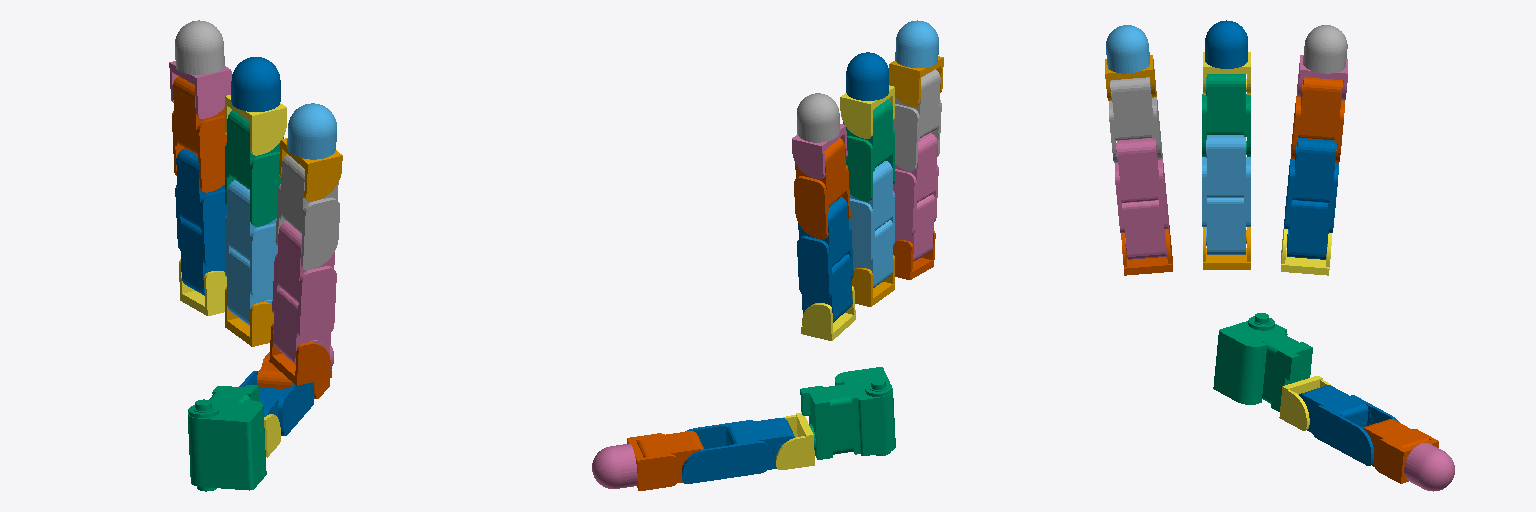
robot.urdf — xarm6:
<?xml version="1.0" encoding="utf-8"?>
<robot name="xarm6">
  <link name="base_link">
    <inertial>
      <mass value="0.4154"/>
      <origin rpy="0 0 0" xyz="0 0 0"/>
      <inertia ixx="1e-4" ixy="0" ixz="0" iyy="1e-4" iyz="0" izz="1e-4"/>
    </inertial>
    <visual>
      <geometry>
        <mesh filename="meshes/visual/base_link.obj"/>
      </geometry>
      <origin rpy="0 0 0" xyz="0 0 0 "/>
    </visual>
    <collision>
      <origin rpy="0 0 0" xyz="-0.009 0.0 -0.04"/>
      <geometry>
        <box size="0.0414 0.112 0.0843"/>
      </geometry>
    </collision>
    <collision>
      <origin rpy="0 0 0" xyz="-0.009300 -0.00557 -0.08874"/>
      <geometry>
        <box size="0.0414 0.0720 0.013"/>
      </geometry>
    </collision>
  </link>

  <link name="palm">
  </link>
  <joint name="palm_joint" type="fixed">
    <parent link="base_link"/>
    <child link="palm"/>
    <origin rpy="0.00000 -0.00000 0.00000" xyz="0 0 -0.065"/>
  </joint>

  <!--  virtual link-->
  <link name="wrist">
    <inertial>
      <mass value="0.01"/>
      <origin rpy="0 0 0" xyz="0 0 0"/>
      <inertia ixx="1e-6" ixy="0" ixz="0" iyy="1e-6" iyz="0" izz="1e-6"/>
    </inertial>
  </link>
  <joint name="wrist_joint" type="fixed">
    <origin rpy="0 0 0" xyz="0 0 -0.03"/>
    <parent link="palm"/>
    <child link="wrist"/>
  </joint>

  <link name="link_0.0">
    <visual>
      <geometry>
        <mesh filename="meshes/visual/link_0.0.obj"/>
      </geometry>
    </visual>
    <collision>
      <geometry>
        <box size="0.0196 0.0275 0.0164"/>
      </geometry>
      <origin rpy="0 0 0" xyz="0 0 0.0082"/>
    </collision>
    <inertial>
      <mass value="0.005"/>
      <origin xyz="0 0 0"/>
      <inertia ixx="5.1458e-05" iyy="5.1458e-05" izz="6.125e-05" ixy="0" ixz="0" iyz="0"/>
    </inertial>
  </link>
  <joint name="joint_0.0" type="revolute">
    <axis xyz="0 0 1"/>
    <limit effort="10" lower="-0.47" upper="0.47" velocity="0"/>
    <parent link="base_link"/>
    <child link="link_0.0"/>
    <origin rpy="-0.08726646255 0 0" xyz="0 0.0435 -0.001542"/>
  </joint>
  <link name="link_1.0">
    <inertial>
      <mass value="0.125164"/>
      <origin xyz="0.027 0 0"/>
      <inertia ixx="6.39979e-06" iyy="8.88687e-05" izz="9.13751e-05" ixy="-3.26531e-06" ixz="1.23963e-05"
               iyz="2.07384e-05"/>
    </inertial>
    <visual>
      <geometry>
        <mesh filename="meshes/visual/link_1.0.obj"/>
      </geometry>
    </visual>
    <collision>
      <geometry>
        <box size="0.0196 0.0275 0.054"/>
      </geometry>
      <origin rpy="0 0 0" xyz="0 0 0.027"/>
    </collision>
  </link>
  <joint name="joint_1.0" type="revolute">
    <limit effort="10" lower="-0.196" upper="1.61" velocity="0"/>
    <axis xyz="0 1 0"/>
    <parent link="link_0.0"/>
    <child link="link_1.0"/>
    <origin xyz="0 0 0.0164"/>
  </joint>
  <link name="link_2.0">
    <inertial>
      <mass value="0.131691"/>
      <origin xyz="0.039 0 0"/>
      <inertia ixx="7.04217e-05" iyy="3.95744e-05" izz="6.61125e-05" ixy="-9.64342e-05" ixz="5.8796e-05"
               iyz="-3.62996e-05"/>
    </inertial>
    <visual>
      <geometry>
        <mesh filename="meshes/visual/link_2.0.obj"/>
      </geometry>
    </visual>
    <collision>
      <geometry>
        <box size="0.0196 0.0275 0.0384"/>
      </geometry>
      <origin rpy="0 0 0" xyz="0 0 0.0192"/>
    </collision>
  </link>
  <joint name="joint_2.0" type="revolute">
    <axis xyz="0 1 0"/>
    <limit effort="10" lower="-0.174" upper="1.709" velocity="0"/>
    <parent link="link_1.0"/>
    <child link="link_2.0"/>
    <origin xyz="0 0 0.054"/>
  </joint>
  <link name="link_3.0">
    <inertial>
      <mass value="0.0388"/>
      <origin xyz="0 0 0" rpy="0 0 0"/>
      <inertia ixx="3.29223173333e-05" ixy="8.042076e-06" ixz="5.2283e-06"
               iyy="1.47493026667e-5" iyz="1.1283525e-5" izz="3.29223173333e-05"/>
    </inertial>
    <visual>
      <geometry>
        <mesh filename="meshes/visual/link_3.0.obj"/>
      </geometry>
    </visual>
    <collision>
      <geometry>
        <box size="0.0196 0.0269 0.022"/>
      </geometry>
      <origin rpy="0 0 0" xyz="0 0 0.0047"/>
    </collision>
    <inertial>
      <origin rpy="0 0 0" xyz="0 0 0.01335"/>
      <mass value="0.02"/>
      <inertia ixx="1e-5" ixy="0.0" ixz="0.0" iyy="2e-5" iyz="0.0" izz="2e-5"/>
    </inertial>
  </link>
  <joint name="joint_3.0" type="revolute">
    <axis xyz="0 1 0"/>
    <limit effort="10" lower="-0.227" upper="1.618" velocity="0"/>
    <parent link="link_2.0"/>
    <child link="link_3.0"/>
    <origin xyz="0 0 0.0384"/>
  </joint>
  <link name="link_3.0_tip">
    <visual>
      <geometry>
        <mesh filename="meshes/visual/link_3.0_tip.obj"/>
      </geometry>
    </visual>
    <collision>
      <geometry>
        <sphere radius="0.012"/>
      </geometry>
      <origin rpy="0 0 0" xyz="0 0 0.0005"/>
    </collision>
    <collision>
      <geometry>
        <cylinder radius="0.012" length="0.012"/>
      </geometry>
      <origin rpy="0 0 0" xyz="0 0 -0.006"/>
    </collision>
  </link>
  <joint name="joint_3.0_tip" type="fixed">
    <parent link="link_3.0"/>
    <child link="link_3.0_tip"/>
    <origin rpy="0 0 0" xyz="0 0 0.0267"/>
  </joint>
  <link name="link_4.0">
    <inertial>
      <mass value="0.005"/>
      <origin xyz="0 0 0"/>
      <inertia ixx="5.1458e-05" iyy="5.1458e-05" izz="6.125e-05" ixy="0" ixz="0" iyz="0"/>
    </inertial>
    <visual>
      <geometry>
        <mesh filename="meshes/visual/link_0.0.obj"/>
      </geometry>
    </visual>
    <collision>
      <geometry>
        <box size="0.0196 0.0275 0.0164"/>
      </geometry>
      <origin rpy="0 0 0" xyz="0 0 0.0082"/>
    </collision>
  </link>
  <joint name="joint_4.0" type="revolute">
    <axis xyz="0 0 1"/>
    <limit effort="10" lower="-0.47" upper="0.47" velocity="0"/>
    <parent link="base_link"/>
    <child link="link_4.0"/>
    <origin rpy="0.0 0 0" xyz="0 0 0.0007"/>
  </joint>
  <link name="link_5.0">
    <inertial>
      <mass value="0.125164"/>
      <origin xyz="0.027 0 0"/>
      <inertia ixx="6.39979e-06" iyy="8.88687e-05" izz="9.13751e-05" ixy="-3.26531e-06" ixz="1.23963e-05"
               iyz="2.07384e-05"/>
    </inertial>
    <visual>
      <geometry>
        <mesh filename="meshes/visual/link_1.0.obj"/>
      </geometry>
    </visual>
    <collision>
      <geometry>
        <box size="0.0196 0.0275 0.054"/>
      </geometry>
      <origin rpy="0 0 0" xyz="0 0 0.027"/>
    </collision>
  </link>
  <joint name="joint_5.0" type="revolute">
    <limit effort="10" lower="-0.196" upper="1.61" velocity="0"/>
    <axis xyz="0 1 0"/>
    <parent link="link_4.0"/>
    <child link="link_5.0"/>
    <origin xyz="0 0 0.0164"/>
  </joint>
  <link name="link_6.0">
    <inertial>
      <mass value="0.131691"/>
      <origin xyz="0.039 0 0"/>
      <inertia ixx="7.04217e-05" iyy="3.95744e-05" izz="6.61125e-05" ixy="-9.64342e-05" ixz="5.8796e-05"
               iyz="-3.62996e-05"/>
    </inertial>
    <visual>
      <geometry>
        <mesh filename="meshes/visual/link_2.0.obj"/>
      </geometry>
    </visual>
    <collision>
      <geometry>
        <box size="0.0196 0.0275 0.0384"/>
      </geometry>
      <origin rpy="0 0 0" xyz="0 0 0.0192"/>
    </collision>
  </link>
  <joint name="joint_6.0" type="revolute">
    <axis xyz="0 1 0"/>
    <limit effort="10" lower="-0.174" upper="1.709" velocity="0"/>
    <parent link="link_5.0"/>
    <child link="link_6.0"/>
    <origin xyz="0 0 0.054"/>
  </joint>
  <link name="link_7.0">
    <inertial>
      <mass value="0.0388"/>
      <origin xyz="0 0 0" rpy="0 0 0"/>
      <inertia ixx="3.29223173333e-05" ixy="8.042076e-06" ixz="5.2283e-06"
               iyy="1.47493026667e-5" iyz="1.1283525e-5" izz="3.29223173333e-05"/>
    </inertial>
    <visual>
      <geometry>
        <mesh filename="meshes/visual/link_3.0.obj"/>
      </geometry>
    </visual>
    <collision>
      <geometry>
        <box size="0.0196 0.0269 0.022"/>
      </geometry>
      <origin rpy="0 0 0" xyz="0 0 0.0047"/>
    </collision>
  </link>
  <joint name="joint_7.0" type="revolute">
    <axis xyz="0 1 0"/>
    <limit effort="10" lower="-0.227" upper="1.618" velocity="0"/>
    <parent link="link_6.0"/>
    <child link="link_7.0"/>
    <origin xyz="0 0 0.0384"/>
  </joint>
  <link name="link_7.0_tip">
    <visual>
      <geometry>
        <mesh filename="meshes/visual/link_3.0_tip.obj"/>
      </geometry>
    </visual>
    <collision>
      <geometry>
        <sphere radius="0.012"/>
      </geometry>
      <origin rpy="0 0 0" xyz="0 0 0.0005"/>
    </collision>
    <collision>
      <geometry>
        <cylinder radius="0.012" length="0.012"/>
      </geometry>
      <origin rpy="0 0 0" xyz="0 0 -0.006"/>
    </collision>
  </link>
  <joint name="joint_7.0_tip" type="fixed">
    <parent link="link_7.0"/>
    <child link="link_7.0_tip"/>
    <origin rpy="0 0 0" xyz="0 0 0.0267"/>
  </joint>
  <link name="link_8.0">
    <inertial>
      <mass value="0.005"/>
      <origin xyz="0 0 0"/>
      <inertia ixx="5.1458e-05" iyy="5.1458e-05" izz="6.125e-05" ixy="0" ixz="0" iyz="0"/>
    </inertial>
    <visual>
      <geometry>
        <mesh filename="meshes/visual/link_0.0.obj"/>
      </geometry>
    </visual>
    <collision>
      <geometry>
        <box size="0.0196 0.0275 0.0164"/>
      </geometry>
      <origin rpy="0 0 0" xyz="0 0 0.0082"/>
    </collision>
  </link>
  <joint name="joint_8.0" type="revolute">
    <axis xyz="0 0 1"/>
    <limit effort="10" lower="-0.47" upper="0.47" velocity="0"/>
    <parent link="base_link"/>
    <child link="link_8.0"/>
    <origin rpy="0.08726646255 0 0" xyz="0 -0.0435 -0.001542"/>
  </joint>
  <link name="link_9.0">
    <inertial>
      <mass value="0.125164"/>
      <origin xyz="0.027 0 0"/>
      <inertia ixx="6.39979e-06" iyy="8.88687e-05" izz="9.13751e-05" ixy="-3.26531e-06" ixz="1.23963e-05"
               iyz="2.07384e-05"/>
    </inertial>
    <visual>
      <geometry>
        <mesh filename="meshes/visual/link_1.0.obj"/>
      </geometry>
    </visual>
    <collision>
      <geometry>
        <box size="0.0196 0.0275 0.054"/>
      </geometry>
      <origin rpy="0 0 0" xyz="0 0 0.027"/>
    </collision>
  </link>
  <joint name="joint_9.0" type="revolute">
    <limit effort="10" lower="-0.196" upper="1.61" velocity="0"/>
    <axis xyz="0 1 0"/>
    <parent link="link_8.0"/>
    <child link="link_9.0"/>
    <origin xyz="0 0 0.0164"/>
  </joint>
  <link name="link_10.0">
    <inertial>
      <mass value="0.131691"/>
      <origin xyz="0.039 0 0"/>
      <inertia ixx="7.04217e-05" iyy="3.95744e-05" izz="6.61125e-05" ixy="-9.64342e-05" ixz="5.8796e-05"
               iyz="-3.62996e-05"/>
    </inertial>
    <visual>
      <geometry>
        <mesh filename="meshes/visual/link_2.0.obj"/>
      </geometry>
    </visual>
    <collision>
      <geometry>
        <box size="0.0196 0.0275 0.0384"/>
      </geometry>
      <origin rpy="0 0 0" xyz="0 0 0.0192"/>
    </collision>
  </link>
  <joint name="joint_10.0" type="revolute">
    <axis xyz="0 1 0"/>
    <limit effort="10" lower="-0.174" upper="1.709" velocity="0"/>
    <parent link="link_9.0"/>
    <child link="link_10.0"/>
    <origin xyz="0 0 0.054"/>
  </joint>
  <link name="link_11.0">
    <inertial>
      <mass value="0.0388"/>
      <origin xyz="0 0 0" rpy="0 0 0"/>
      <inertia ixx="3.29223173333e-05" ixy="8.042076e-06" ixz="5.2283e-06"
               iyy="1.47493026667e-5" iyz="1.1283525e-5" izz="3.29223173333e-05"/>
    </inertial>
    <visual>
      <geometry>
        <mesh filename="meshes/visual/link_3.0.obj"/>
      </geometry>
    </visual>
    <collision>
      <geometry>
        <box size="0.0196 0.0269 0.022"/>
      </geometry>
      <origin rpy="0 0 0" xyz="0 0 0.0047"/>
    </collision>
  </link>
  <joint name="joint_11.0" type="revolute">
    <axis xyz="0 1 0"/>
    <limit effort="10" lower="-0.227" upper="1.618" velocity="0"/>
    <parent link="link_10.0"/>
    <child link="link_11.0"/>
    <origin xyz="0 0 0.0384"/>
  </joint>
  <link name="link_11.0_tip">
    <visual>
      <geometry>
        <mesh filename="meshes/visual/link_3.0_tip.obj"/>
      </geometry>
    </visual>
    <collision>
      <geometry>
        <sphere radius="0.012"/>
      </geometry>
      <origin rpy="0 0 0" xyz="0 0 0.0005"/>
    </collision>
    <collision>
      <geometry>
        <cylinder radius="0.012" length="0.012"/>
      </geometry>
      <origin rpy="0 0 0" xyz="0 0 -0.006"/>
    </collision>
  </link>
  <joint name="joint_11.0_tip" type="fixed">
    <parent link="link_11.0"/>
    <child link="link_11.0_tip"/>
    <origin rpy="0 0 0" xyz="0 0 0.0267"/>
  </joint>
  <!-- THUMB -->
  <link name="link_12.0">
    <inertial>
      <mass value="0.005"/>
      <origin xyz="0 0 0"/>
      <inertia ixx="5.1458e-05" iyy="5.1458e-05" izz="6.125e-05" ixy="0" ixz="0" iyz="0"/>
    </inertial>
    <visual>
      <geometry>
        <mesh filename="meshes/visual/link_12.0_right.obj"/>
      </geometry>
    </visual>
    <collision>
      <geometry>
        <box size="0.0358 0.034 0.0455"/>
      </geometry>
      <origin rpy="0 0 0" xyz="-0.0179 0.009 0.0145"/>
    </collision>
  </link>
  <joint name="joint_12.0" type="revolute">
    <axis xyz="-1 0 0"/>
    <limit effort="10" lower="0.263" upper="1.396" velocity="0"/>
    <parent link="base_link"/>
    <child link="link_12.0"/>
    <origin rpy="0 -1.65806278845 -1.5707963259" xyz="-0.0182 0.019333 -0.045987"/>
  </joint>
  <link name="link_13.0">
    <inertial>
      <mass value="0.125164"/>
      <origin xyz="0.027 0 0"/>
      <inertia ixx="6.39979e-06" iyy="8.88687e-05" izz="9.13751e-05" ixy="-3.26531e-06" ixz="1.23963e-05"
               iyz="2.07384e-05"/>
    </inertial>
    <visual>
      <geometry>
        <mesh filename="meshes/visual/link_13.0.obj"/>
      </geometry>
    </visual>
    <collision>
      <geometry>
        <box size="0.0196 0.0275 0.0177"/>
      </geometry>
      <origin rpy="0 0 0" xyz="0 0 0.00885"/>
    </collision>
  </link>
  <joint name="joint_13.0" type="revolute">
    <axis xyz="0 0 1"/>
    <limit effort="10" lower="-0.105" upper="1.163" velocity="0"/>
    <parent link="link_12.0"/>
    <child link="link_13.0"/>
    <origin xyz="-0.027 0.005 0.0399"/>
  </joint>
  <link name="link_14.0">
    <inertial>
      <mass value="0.131691"/>
      <origin xyz="0.039 0 0"/>
      <inertia ixx="7.04217e-05" iyy="3.95744e-05" izz="6.61125e-05" ixy="-9.64342e-05" ixz="5.8796e-05"
               iyz="-3.62996e-05"/>
    </inertial>
    <visual>
      <geometry>
        <mesh filename="meshes/visual/link_14.0.obj"/>
      </geometry>
    </visual>
    <collision>
      <geometry>
        <box size="0.0196 0.0275 0.0514"/>
      </geometry>
      <origin rpy="0 0 0" xyz="0 0 0.0257"/>
    </collision>
  </link>
  <joint name="joint_14.0" type="revolute">
    <axis xyz="0 1 0"/>
    <limit effort="10" lower="-0.189" upper="1.644" velocity="0"/>
    <parent link="link_13.0"/>
    <child link="link_14.0"/>
    <origin xyz="0 0 0.0177"/>
  </joint>
  <link name="link_15.0">
    <inertial>
      <mass value="0.0388"/>
      <origin xyz="0 0 0" rpy="0 0 0"/>
      <inertia ixx="3.29223173333e-05" ixy="8.042076e-06" ixz="5.2283e-06"
               iyy="1.47493026667e-5" iyz="1.1283525e-5" izz="3.29223173333e-05"/>
    </inertial>
    <visual>
      <geometry>
        <mesh filename="meshes/visual/link_15.0.obj"/>
      </geometry>
    </visual>
    <collision>
      <geometry>
        <box size="0.0196 0.0269 0.04"/>
      </geometry>
      <origin rpy="0 0 0" xyz="0 0 0.01125"/>
    </collision>
  </link>
  <joint name="joint_15.0" type="revolute">
    <axis xyz="0 1 0"/>
    <limit effort="10" lower="-0.162" upper="1.719" velocity="0"/>
    <parent link="link_14.0"/>
    <child link="link_15.0"/>
    <origin xyz="0 0 0.0514"/>
  </joint>
  <link name="link_15.0_tip">
    <visual>
      <geometry>
        <mesh filename="meshes/visual/link_15.0_tip.obj"/>
      </geometry>
    </visual>
    <collision>
      <geometry>
        <sphere radius="0.012"/>
      </geometry>
      <origin rpy="0 0 0" xyz="0 0 0.0005"/>
    </collision>
    <collision>
      <geometry>
        <cylinder radius="0.012" length="0.012"/>
      </geometry>
      <origin rpy="0 0 0" xyz="0 0 -0.006"/>
    </collision>
  </link>
  <joint name="joint_15.0_tip" type="fixed">
    <parent link="link_15.0"/>
    <child link="link_15.0_tip"/>
    <origin rpy="0 0 0" xyz="0 0 0.0423"/>
  </joint>
</robot>

--- Render facts (derived) ---
The picture shows the robot from 3 angles, left to right: view 1: azimuth 30°, elevation 25°; view 2: azimuth 150°, elevation 25°; view 3: azimuth 270°, elevation 25°; orthographic projection.
Robot: xarm6 — 23 links, 22 joints (16 revolute, 6 fixed); root link base_link; default pose: joints at zero except 1 at the middle of their limits (joint_12.0 = 0.8295).
Links seen in each view (by area): view 1: link_12.0, link_9.0, link_5.0, link_1.0, link_10.0, link_6.0, link_2.0, link_11.0_tip, link_7.0_tip, link_3.0_tip, link_14.0, link_8.0 (+7 smaller); view 2: link_12.0, link_14.0, link_1.0, link_9.0, link_5.0, link_2.0, link_15.0, link_10.0, link_6.0, link_3.0_tip, link_7.0_tip, link_11.0_tip (+8 smaller); view 3: link_12.0, link_1.0, link_9.0, link_5.0, link_14.0, link_2.0, link_10.0, link_6.0, link_15.0, link_15.0_tip, link_3.0_tip, link_7.0_tip (+8 smaller).
Link boxes in pixels (x1,y1,x2,y2): link_12.0: (188, 385, 266, 491); link_9.0: (272, 221, 336, 364); link_5.0: (225, 180, 277, 325); link_1.0: (175, 148, 226, 295); link_10.0: (275, 154, 339, 270); link_6.0: (225, 110, 283, 226); link_2.0: (172, 76, 226, 192); link_11.0_tip: (287, 103, 336, 159); link_7.0_tip: (231, 57, 280, 111); link_3.0_tip: (175, 20, 224, 74); link_14.0: (239, 371, 314, 435); link_8.0: (269, 323, 331, 385); link_12.0: (800, 367, 895, 459); link_14.0: (682, 418, 794, 483); link_1.0: (797, 197, 853, 322); link_9.0: (893, 133, 938, 261); link_5.0: (849, 161, 894, 287); link_2.0: (794, 138, 850, 239); link_15.0: (627, 431, 703, 490); link_10.0: (893, 69, 941, 171); link_6.0: (843, 99, 894, 201); link_3.0_tip: (797, 93, 839, 142); link_7.0_tip: (846, 52, 888, 100); link_11.0_tip: (895, 20, 938, 67); link_12.0: (1213, 313, 1312, 411); link_1.0: (1284, 138, 1338, 259); link_9.0: (1115, 138, 1168, 259); link_5.0: (1202, 135, 1250, 254); link_14.0: (1299, 385, 1399, 465); link_2.0: (1291, 77, 1344, 162); link_10.0: (1109, 77, 1162, 162); link_6.0: (1202, 74, 1250, 156); link_15.0: (1362, 419, 1438, 483); link_15.0_tip: (1404, 443, 1454, 491); link_3.0_tip: (1303, 25, 1347, 73); link_7.0_tip: (1205, 20, 1247, 68).
Bounding box of the posed robot: 0.135 × 0.1948 × 0.2416 m (x, y, z).
20 mesh visuals loaded from 11 distinct referenced files (10 OBJ); not drawn: 1 (reference not matched to a file when rendering).